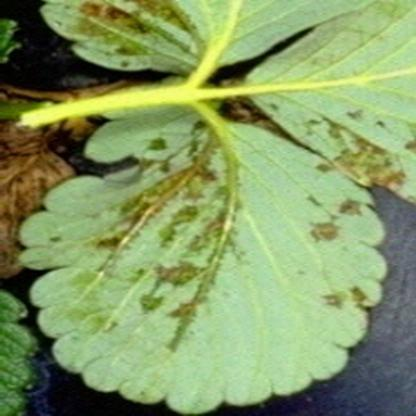Strawberry_Angular_LeafSpot: (17, 75, 390, 416), (236, 0, 416, 204), (40, 0, 374, 77)
